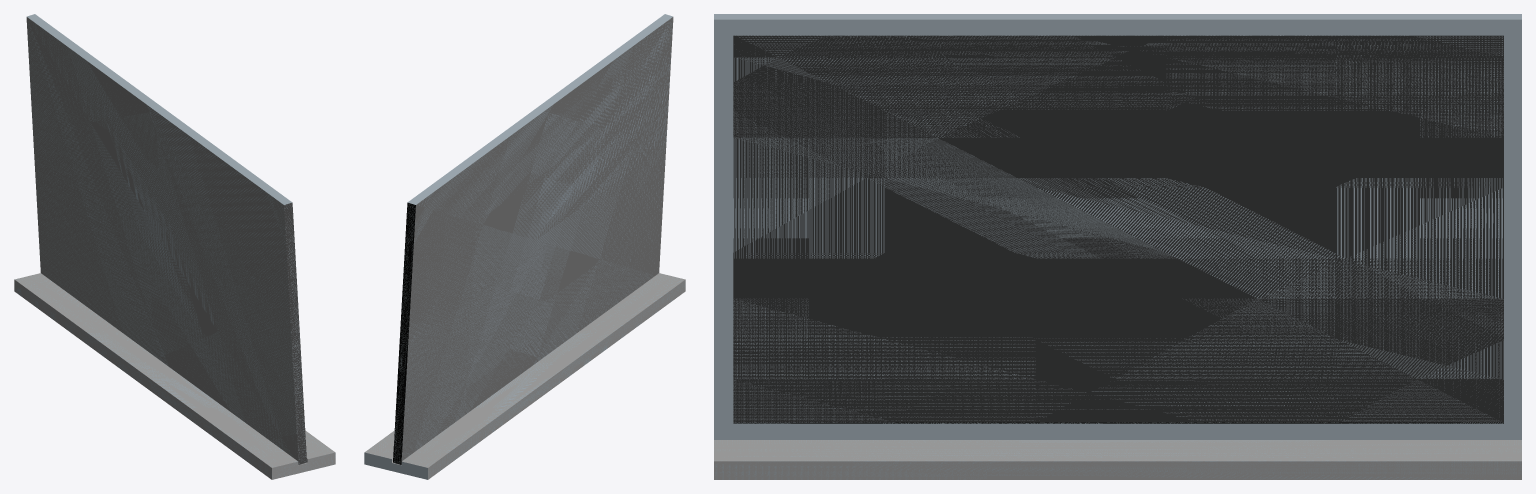
3 renders of one model, left to right at view 1: azimuth 30°, elevation 25°; view 2: azimuth 150°, elevation 25°; view 3: azimuth 270°, elevation 25°, orthographic. The views are drawn at different scales.
Visible parts, largest first — view 1: skpF3q5D6 (×4); view 2: skpF3q5D6 (×5); view 3: skpF3q5D6 (×5).
Part boxes in pixels (x1,y1,x2,y2): skpF3q5D6 (×4): [14, 14, 335, 479]; skpF3q5D6 (×5): [364, 14, 685, 479]; skpF3q5D6 (×5): [714, 14, 1521, 479].
Size of the model in its own units: 3.47 by 24.31 by 14.19.
